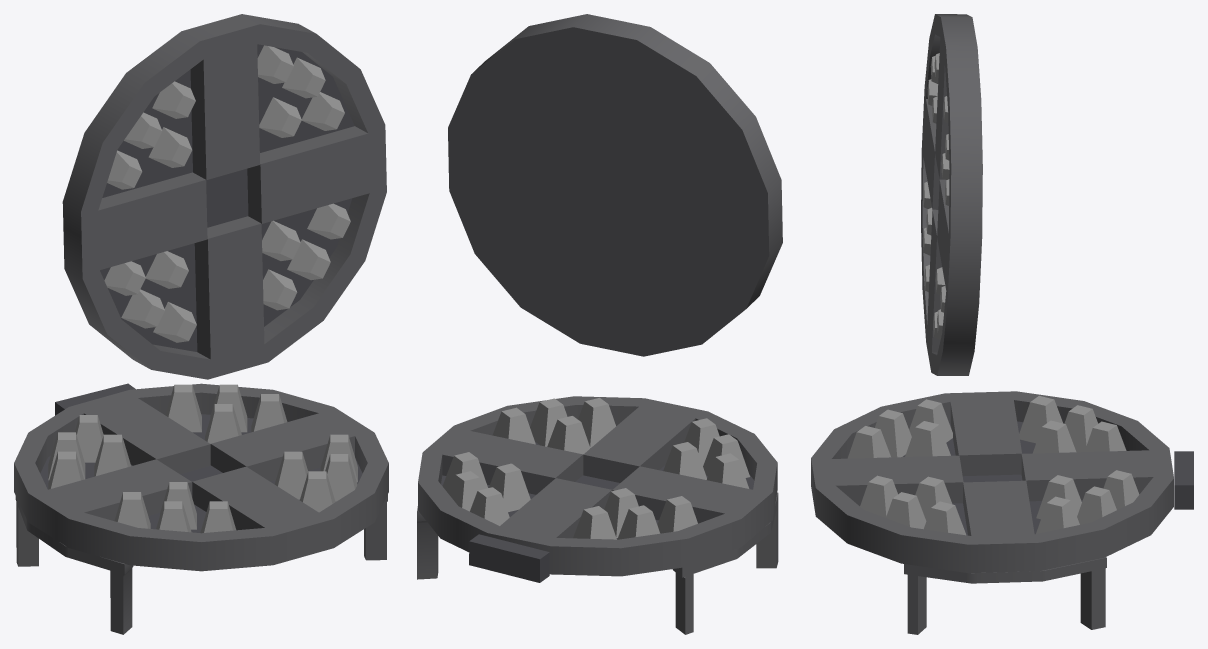
The model's file is waffle maker textured.fbx.
3 views of the same model, side by side, from view 1: azimuth 30°, elevation 25°; view 2: azimuth 150°, elevation 25°; view 3: azimuth 270°, elevation 25° (orthographic). The views are drawn at different scales.
Visible parts, largest first — view 1: Roof, Base.003, Leg 1.001, Cube.007, Cube.024, Cube.036, Cube.029, Cube.034, Cube.030, Cube.028, Cube.026, Cube.027 (+25 smaller); view 2: Roof, Base.003, Leg 1.001, Support, Cube.006, Leg 2.001, Cube.019, Cube.016, Cube.010, Cube.018, Cube.021, Cube.023 (+9 smaller); view 3: Base.003, Roof, Leg 2.001, Cube.021, Support, Cube.014, Cube.010, Cube.019, Cube.009, Cube.020, Cube.018, Cube.011 (+8 smaller).
Part boxes in pixels (bbox=[...]): Roof: bbox=[62, 14, 386, 379]; Base.003: bbox=[14, 383, 388, 571]; Leg 1.001: bbox=[15, 496, 133, 634]; Cube.007: bbox=[165, 384, 201, 432]; Cube.024: bbox=[259, 97, 301, 137]; Cube.036: bbox=[148, 127, 192, 167]; Cube.029: bbox=[153, 302, 196, 342]; Cube.034: bbox=[287, 239, 330, 280]; Cube.030: bbox=[121, 289, 164, 328]; Cube.028: bbox=[145, 251, 188, 288]; Cube.026: bbox=[282, 57, 325, 98]; Cube.027: bbox=[301, 92, 344, 130]; Roof: bbox=[448, 14, 782, 356]; Base.003: bbox=[418, 396, 777, 576]; Leg 1.001: bbox=[672, 492, 778, 634]; Support: bbox=[469, 534, 549, 582]; Cube.006: bbox=[489, 463, 530, 512]; Leg 2.001: bbox=[417, 506, 438, 579]; Cube.019: bbox=[578, 397, 615, 447]; Cube.016: bbox=[547, 416, 590, 454]; Cube.010: bbox=[663, 442, 706, 479]; Cube.018: bbox=[530, 398, 567, 446]; Cube.021: bbox=[657, 496, 697, 533]; Cube.023: bbox=[573, 506, 616, 539]; Base.003: bbox=[811, 391, 1173, 573]; Roof: bbox=[921, 14, 982, 375]; Leg 2.001: bbox=[904, 557, 1106, 634]; Cube.021: bbox=[1019, 395, 1063, 443]; Support: bbox=[1174, 451, 1193, 509]; Cube.014: bbox=[875, 409, 911, 457]; Cube.010: bbox=[905, 421, 950, 456]; Cube.019: bbox=[860, 475, 897, 517]; Cube.009: bbox=[1036, 496, 1079, 533]; Cube.020: bbox=[1032, 420, 1076, 453]; Cube.018: bbox=[886, 492, 926, 529]; Cube.011: bbox=[847, 426, 890, 458].
Bounding box in the file's own units: 439 × 711 × 461.
